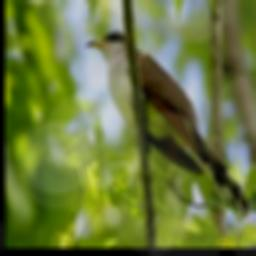Cuckoo: (85, 30, 250, 213)
